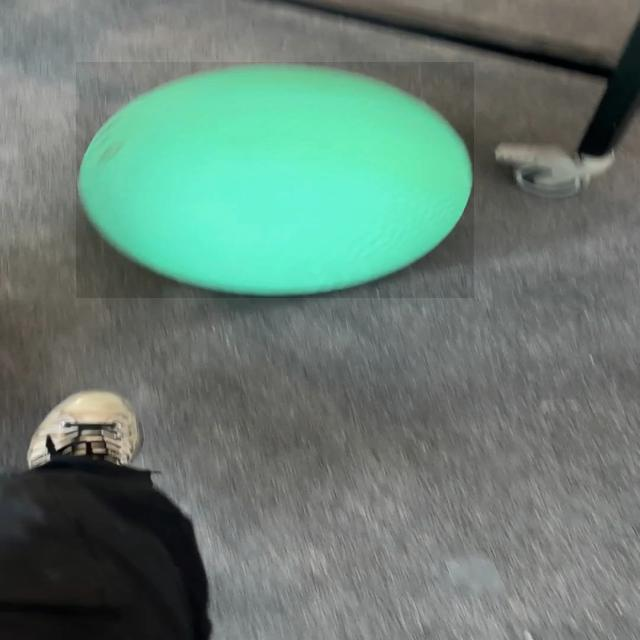Algae: (76, 62, 474, 298)
